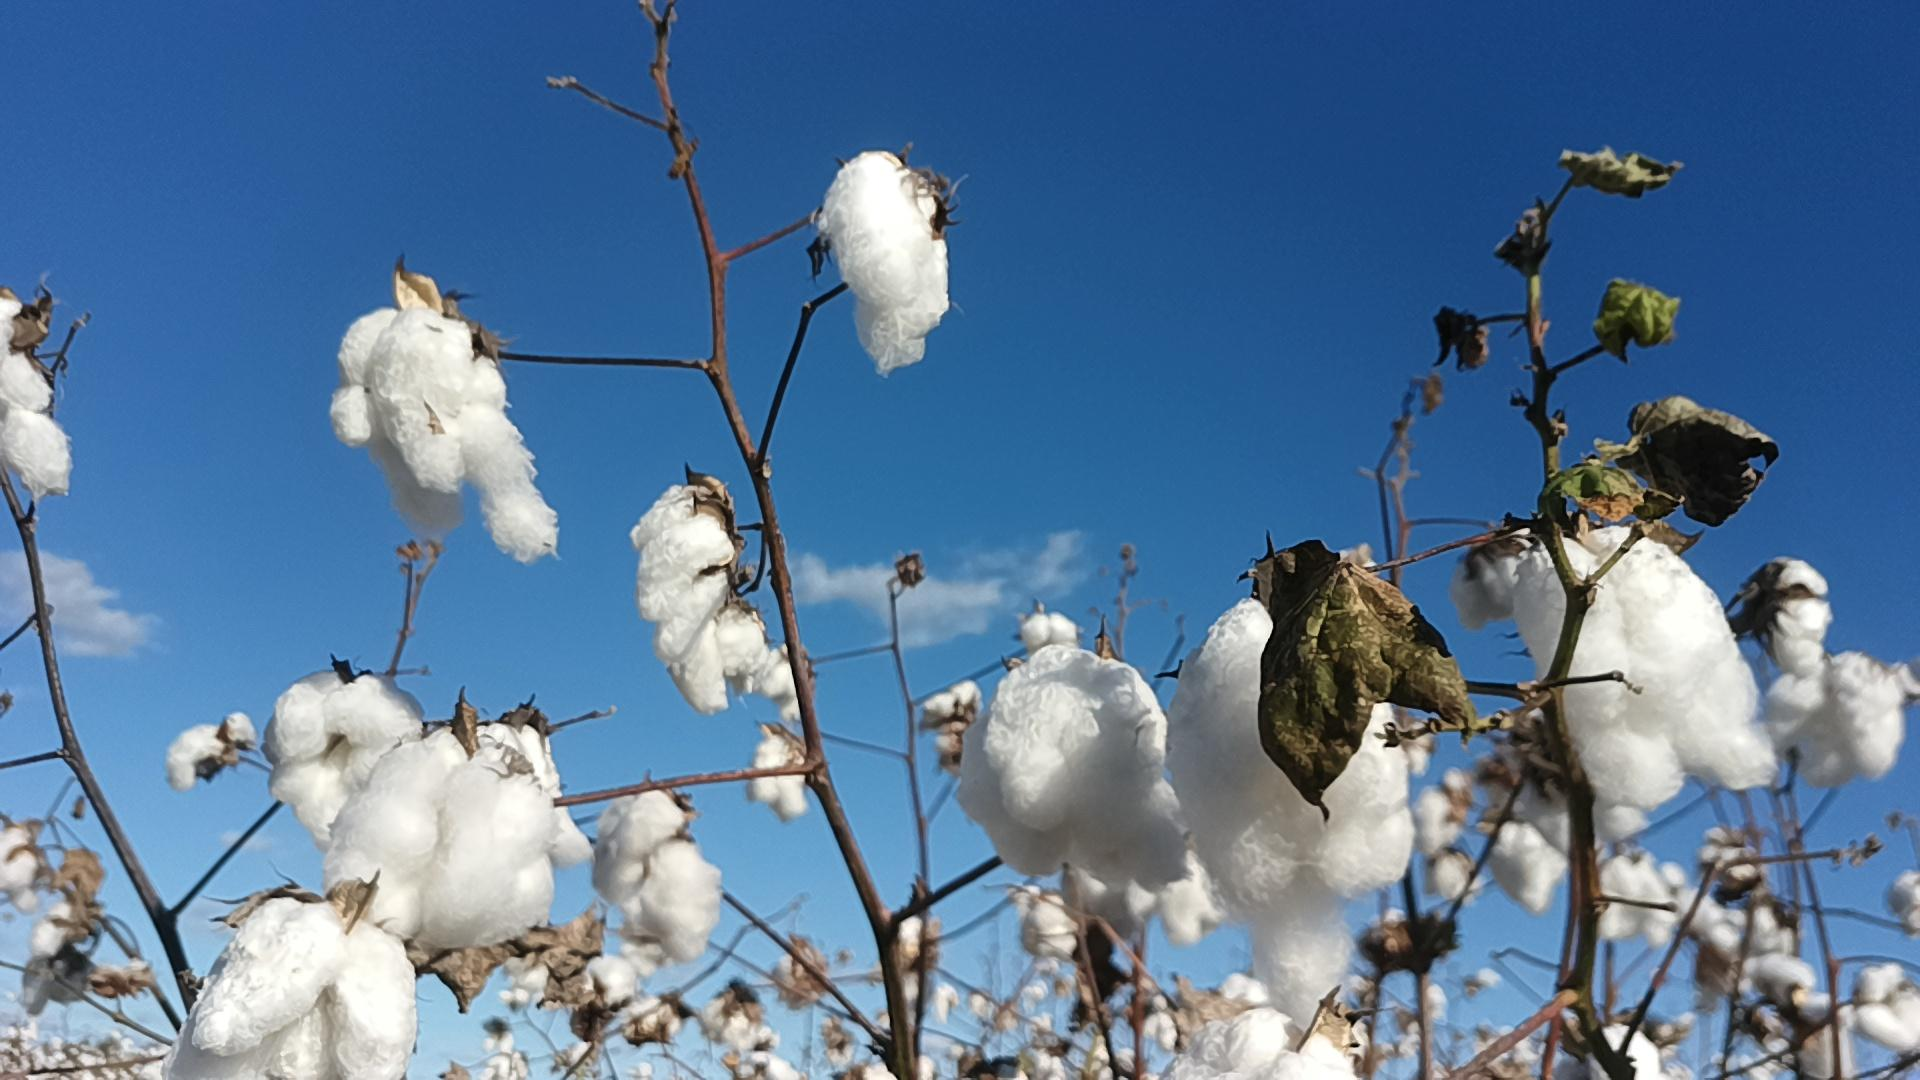cotton_ready: (1164, 593, 1418, 1026), (1516, 529, 1787, 803), (328, 307, 566, 566), (956, 644, 1192, 898), (324, 744, 555, 944), (169, 898, 415, 1080), (629, 480, 767, 713), (816, 150, 953, 376), (265, 666, 427, 848), (431, 715, 601, 868), (597, 791, 724, 967), (1767, 653, 1904, 789), (0, 295, 79, 500), (1150, 1007, 1362, 1080), (1453, 527, 1555, 633)
